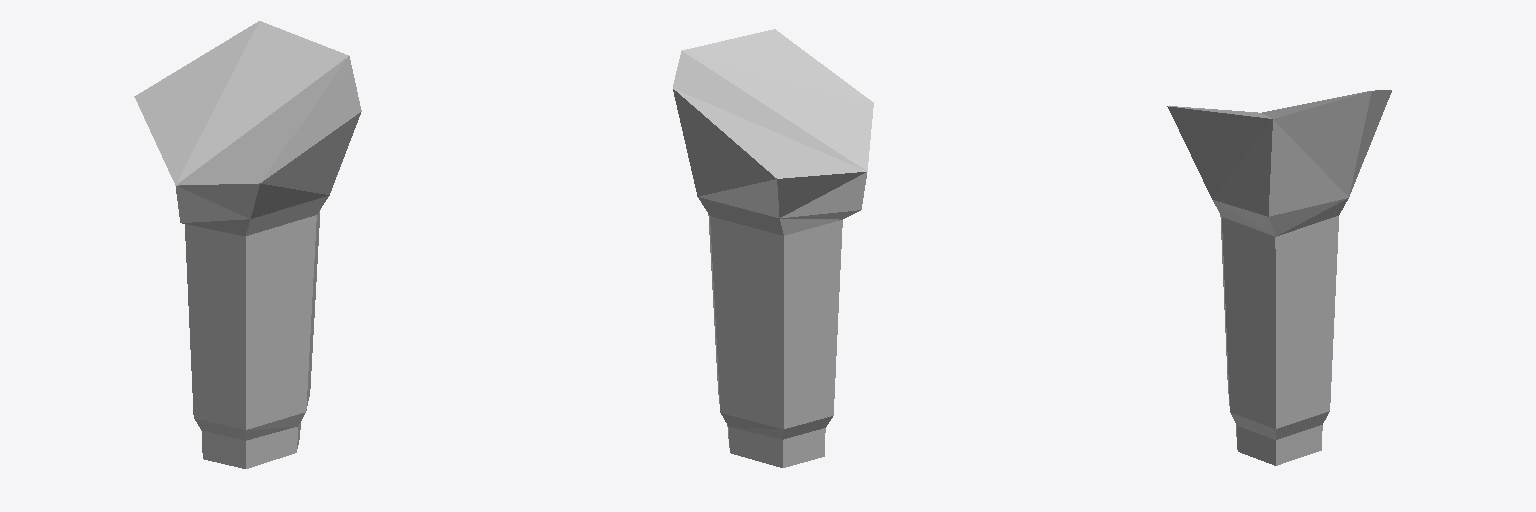
Rendered from astronauta_reloded_leftarmtop.obj.
3 views of the same model, side by side, from view 1: azimuth 30°, elevation 25°; view 2: azimuth 150°, elevation 25°; view 3: azimuth 270°, elevation 25° (orthographic).
Visible parts, largest first — view 1: Astronauta_Cubo; view 2: Astronauta_Cubo; view 3: Astronauta_Cubo.
Part boxes in pixels (left/top/right/bottom): Astronauta_Cubo: left=134, top=21, right=361, bottom=468; Astronauta_Cubo: left=673, top=29, right=873, bottom=467; Astronauta_Cubo: left=1167, top=90, right=1391, bottom=465.
Bounding box in the file's own units: 0.1539 × 0.3096 × 0.1666.